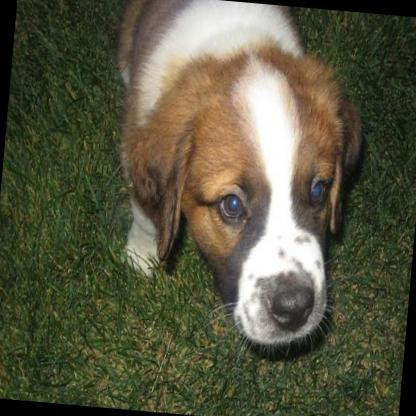Saint_Bernard: (90, 0, 368, 350)
